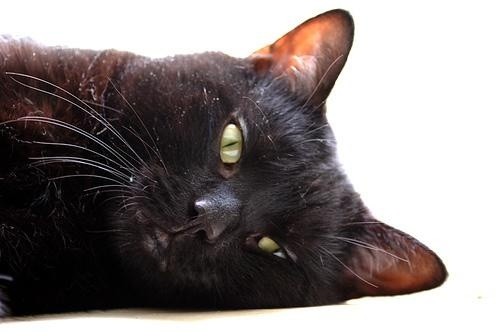cat: (1, 8, 450, 316)
